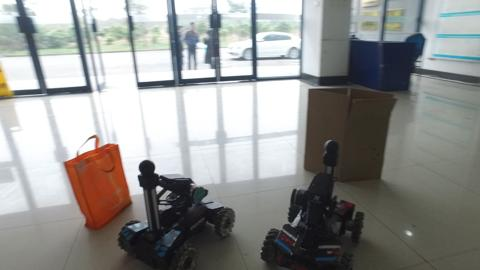bag: (60, 135, 133, 227)
box: (302, 76, 392, 166)
chariot: (261, 141, 367, 270), (118, 155, 237, 268)
